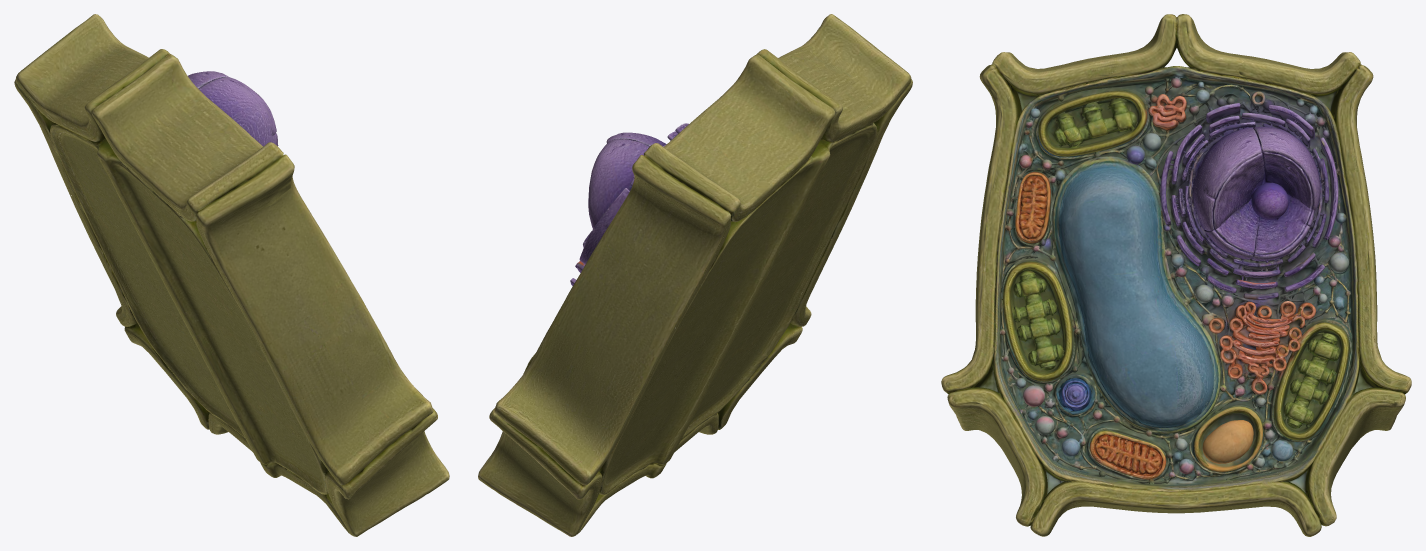
Rendered from plant-cell.glb.
The picture shows the model from 3 angles, left to right: view 1: azimuth 30°, elevation 25°; view 2: azimuth 150°, elevation 25°; view 3: azimuth 270°, elevation 25°; orthographic projection.
Visible parts, largest first — view 1: tripo_node_b85e6d6e-bcc2-42af-8363-698f06edf673; view 2: tripo_node_b85e6d6e-bcc2-42af-8363-698f06edf673; view 3: tripo_node_b85e6d6e-bcc2-42af-8363-698f06edf673.
Boxes of the visible parts, x1,y1,x2,y2 form: tripo_node_b85e6d6e-bcc2-42af-8363-698f06edf673: (14,14,449,536); tripo_node_b85e6d6e-bcc2-42af-8363-698f06edf673: (478,14,912,536); tripo_node_b85e6d6e-bcc2-42af-8363-698f06edf673: (941,14,1411,536).
Size of the model in its own units: 0.6378 by 0.98 by 0.922.
Materials: 1 (1 with a texture image).
